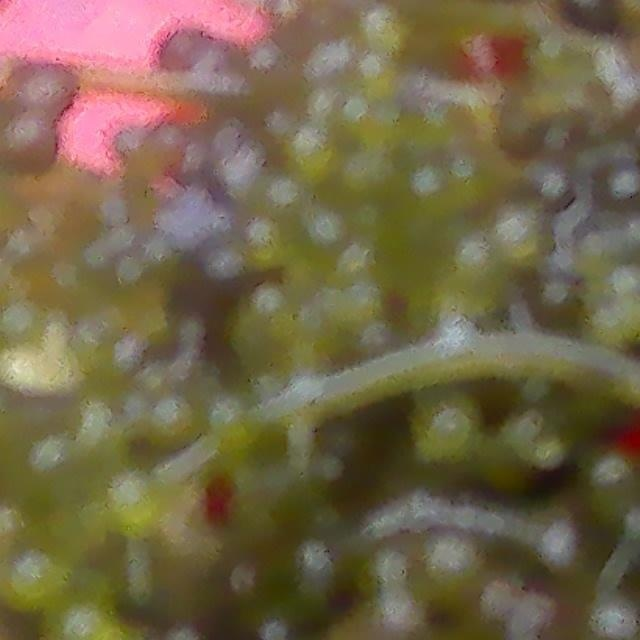SeaGrape: (104, 464, 162, 533), (2, 115, 59, 178), (8, 68, 73, 117), (154, 23, 210, 76), (249, 42, 299, 99), (5, 555, 59, 606)
